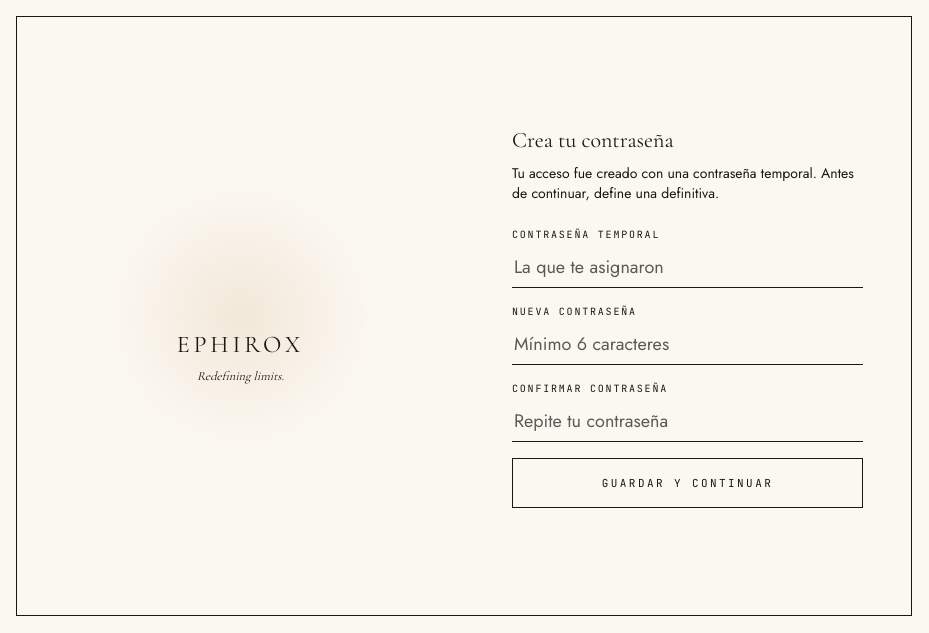
Test: SetPasswordPage › shows the server error when changePasswordRequest fails
Type "wrong-temp" into the password field labelled "Contraseña temporal".
click(688, 268); type("wrong-temp")  # box [512,248,863,288]
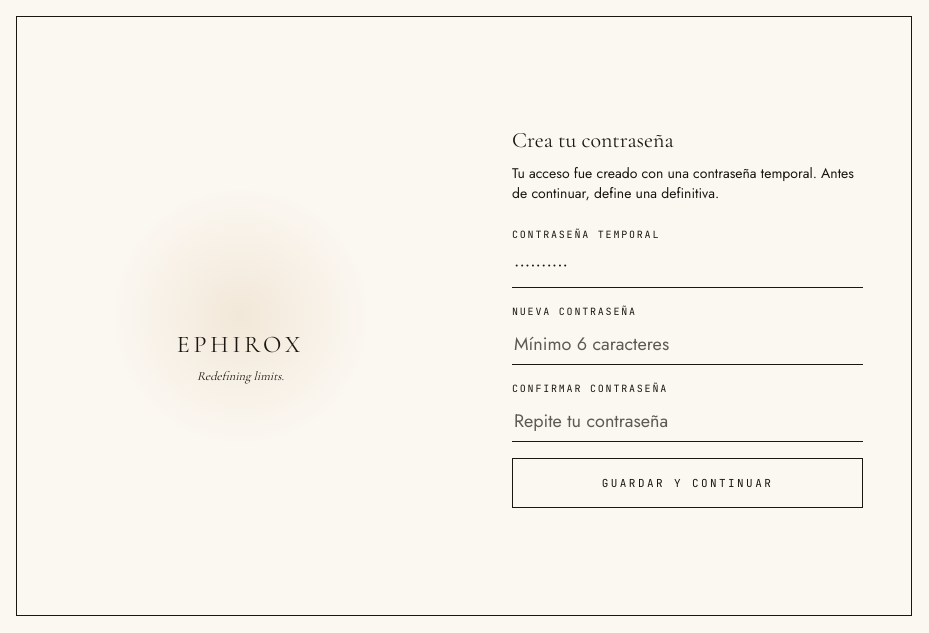
Type "nueva-buena-123" into the password field labelled "Nueva contraseña".
click(688, 345); type("nueva-buena-123")  # box [512,325,863,365]
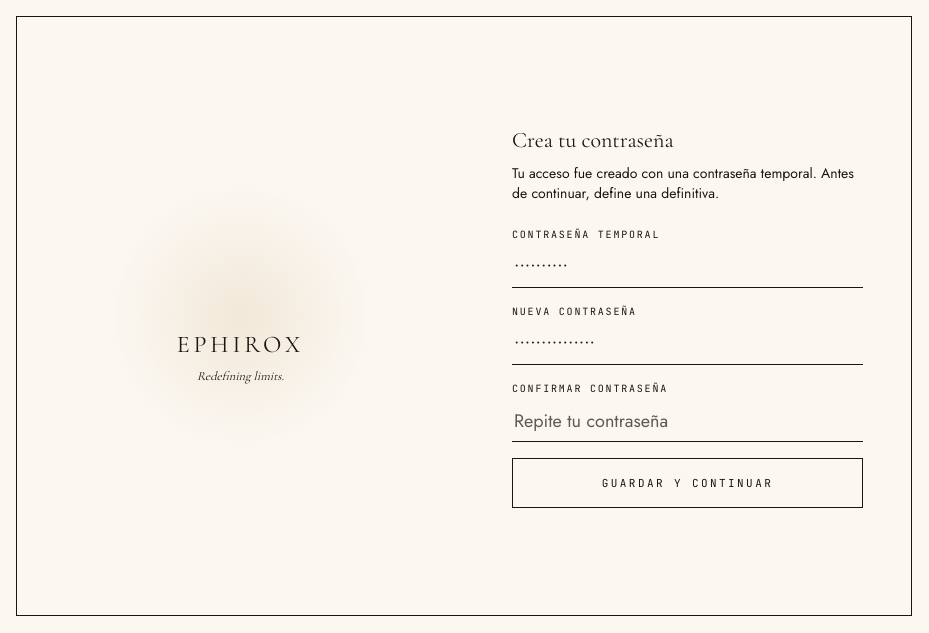
Type "nueva-buena-123" into the password field labelled "Confirmar contraseña".
click(688, 422); type("nueva-buena-123")  # box [512,402,863,442]
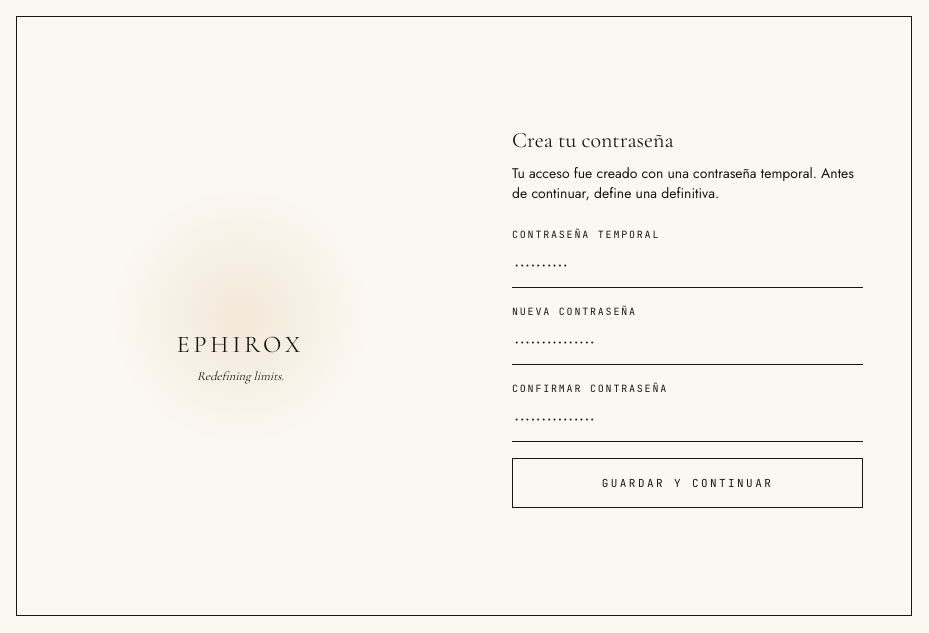
Click the button "Guardar y continuar".
click(688, 483)  # box [512,458,863,508]
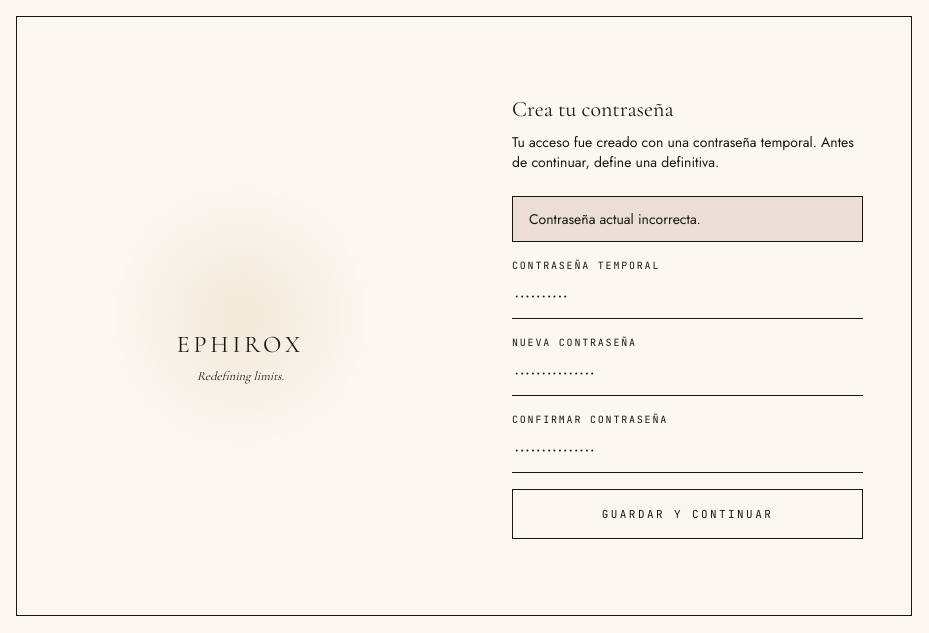
Expected: the message reads "Contraseña actual incorrecta.", [529,209,701,229]
